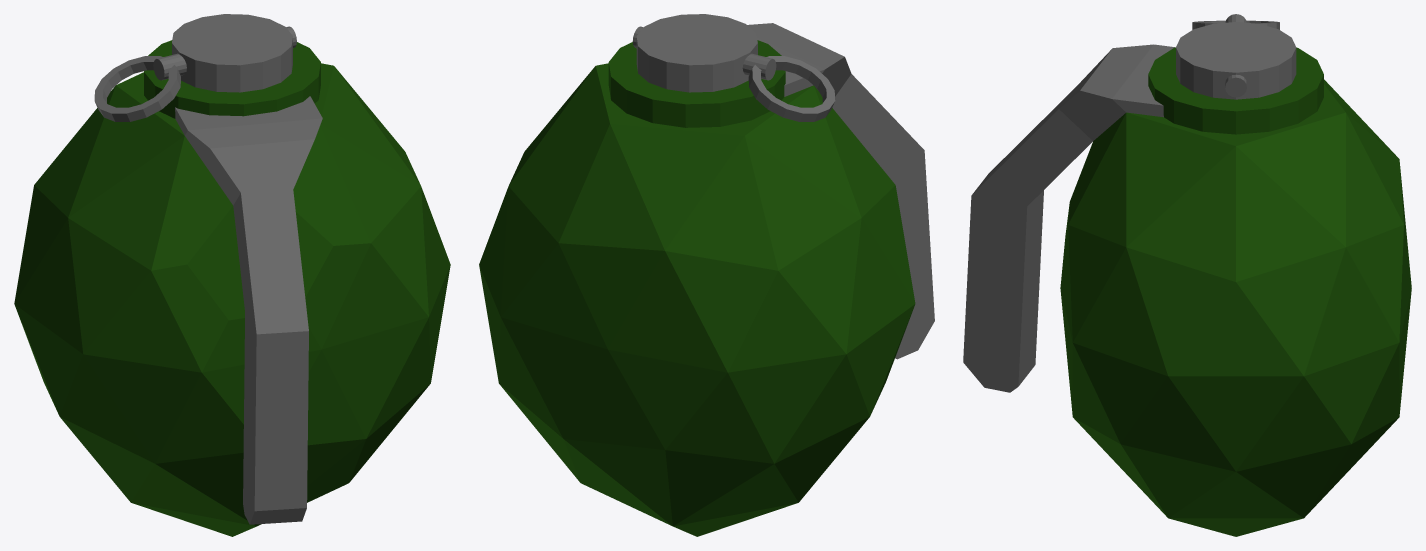
File: grenade.fbx
3 renders of one model, left to right at view 1: azimuth 30°, elevation 25°; view 2: azimuth 150°, elevation 25°; view 3: azimuth 270°, elevation 25°, orthographic.
Visible parts, largest first — view 1: Icosphere; view 2: Icosphere; view 3: Icosphere.
Part boxes in pixels (left/top/right/bottom): Icosphere: left=14, top=14, right=450, bottom=536; Icosphere: left=479, top=14, right=934, bottom=536; Icosphere: left=963, top=14, right=1411, bottom=536.
Bounding box in the file's own units: 9.51 × 12.3 × 10.21.
